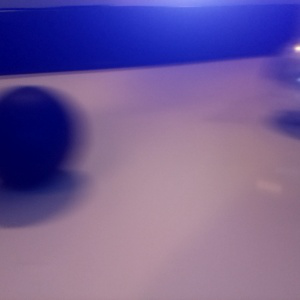alive_ball: (263, 42, 300, 125)
dead_ball: (1, 86, 78, 185)
